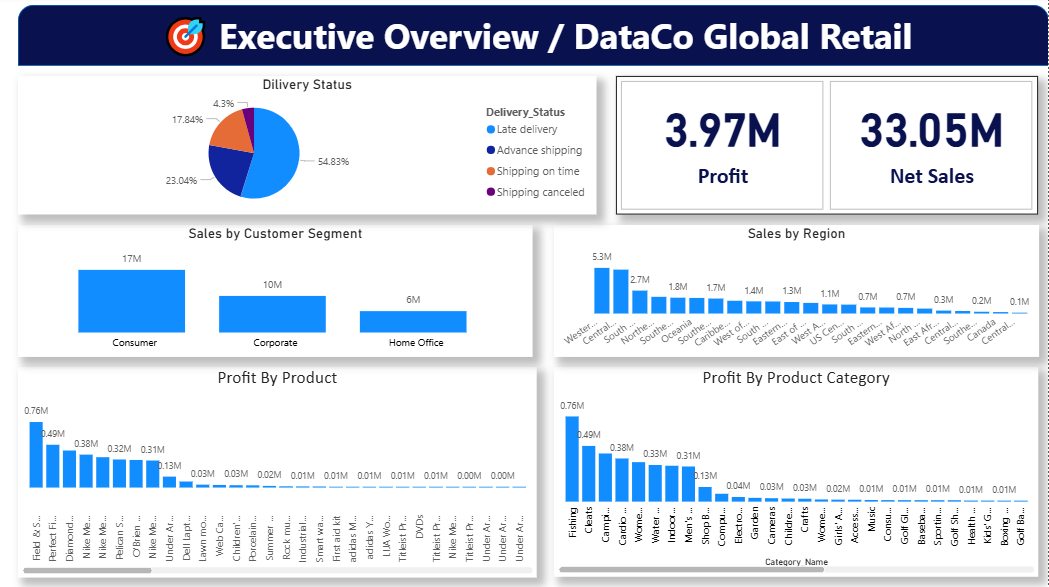

Layout of this report page (visuals, bound fields, positions):
{"tool":"powerbi","page":{"name":"🎯 Executive Overview","canvas":[1280,720],"ordinal":0},"visuals":[{"type":"cardVisual","fields":{"Data":["Sum(Supply_Chain_Reporting.Profit)","Sum(Supply_Chain_Reporting.Net_Sales)"]},"box":[752.3,96.4,515.3,169.5],"z":0},{"type":"shape","box":[22,9.6,1258,74.3],"z":1000},{"type":"textbox","box":[74.3,12.4,1161.6,74.3],"z":2000},{"type":"columnChart","title":"Profit By Product Category","fields":{"Category":["Supply_Chain_Reporting.Category_Name"],"Y":["Sum(Supply_Chain_Reporting.Profit)"]},"box":[676.5,451.9,591.1,256.3],"z":3000},{"type":"columnChart","title":"Profit By Product","fields":{"Y":["Sum(Supply_Chain_Reporting.Profit)"],"Category":["Supply_Chain_Reporting.Product_Name"]},"box":[22,451.4,633.1,257.4],"z":4000},{"type":"columnChart","title":"Sales by Customer Segment","fields":{"Y":["Sum(Supply_Chain_Reporting.Net_Sales)"],"Category":["Supply_Chain_Reporting.Customer_Segment"]},"box":[22,278.3,628.3,161.2],"z":5000},{"type":"columnChart","title":"Sales by Region","fields":{"Y":["Sum(Supply_Chain_Reporting.Net_Sales)"],"Category":["Supply_Chain_Reporting.Order_Region"]},"box":[675.8,278,591.8,161],"z":6000},{"type":"pieChart","title":"Dilivery Status","fields":{"Category":["Supply_Chain_Reporting.Delivery_Status"],"Y":["CountNonNull(Supply_Chain_Reporting.Delivery_Status)"]},"box":[22,96.3,706.1,169.3],"z":7000}]}

Visuals, with their boxes in screenshot pixels (x1, y1, x2, y2), scaled from the page's 1280x720 canvas onto the 1049x587 screenshot:
cardVisual - Sum(Supply_Chain_Reporting.Profit) x Sum(Supply_Chain_Reporting.Net_Sales): 617/79/1039/217
shape: 18/8/1048/68
textbox: 61/10/1013/71
"Profit By Product Category" columnChart: 554/368/1039/577
"Profit By Product" columnChart: 18/368/537/578
"Sales by Customer Segment" columnChart: 18/227/533/358
"Sales by Region" columnChart: 554/227/1039/358
"Dilivery Status" pieChart: 18/79/597/217
